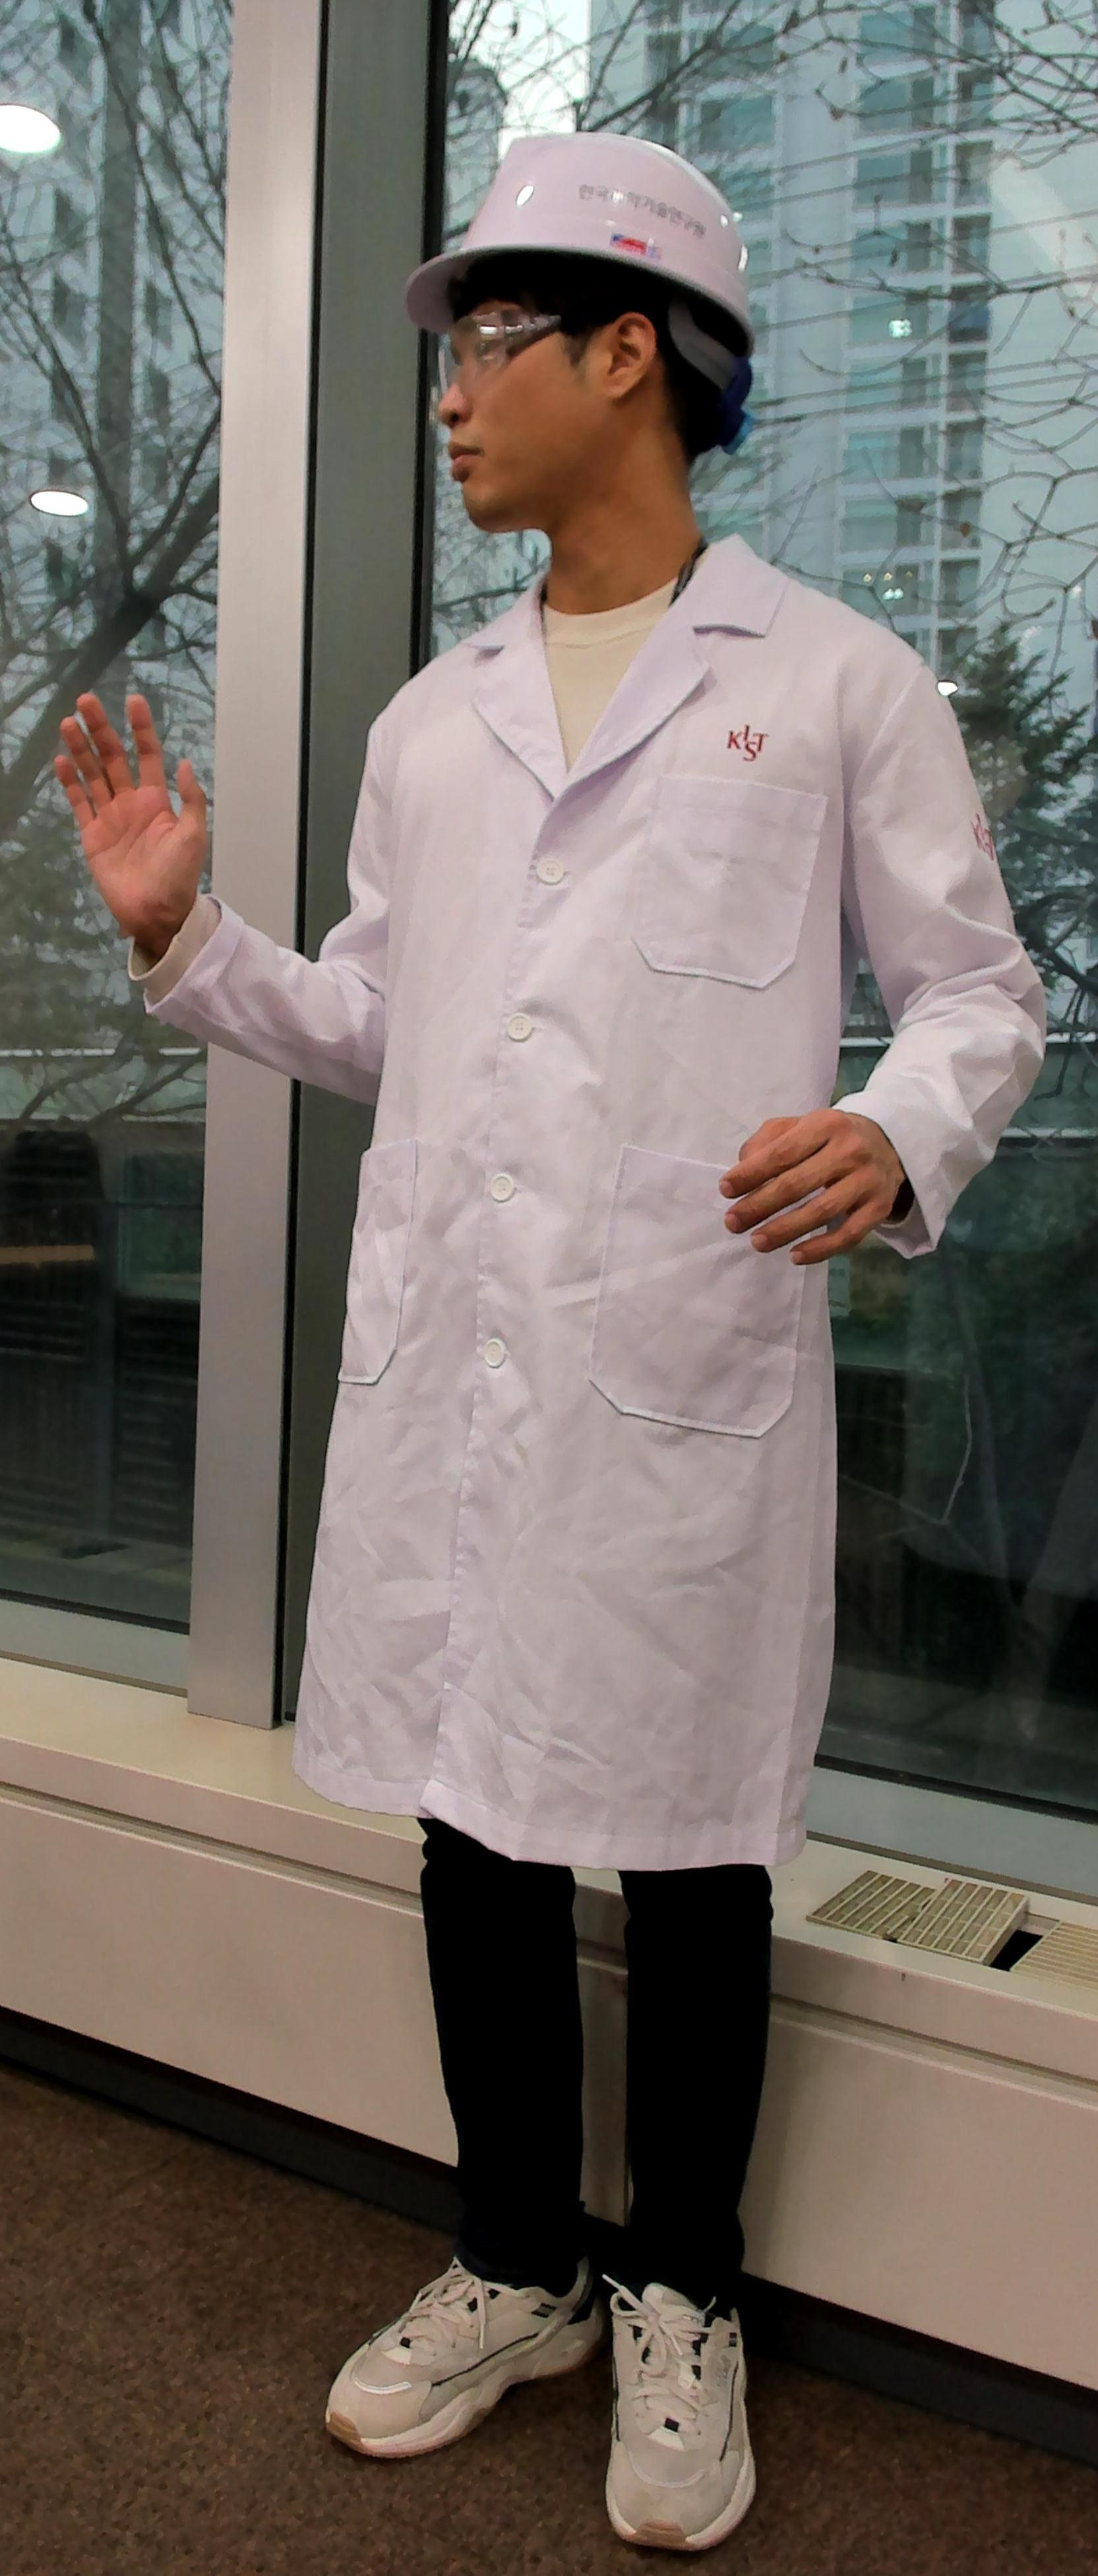lab_coat: (317, 641, 856, 1828)
